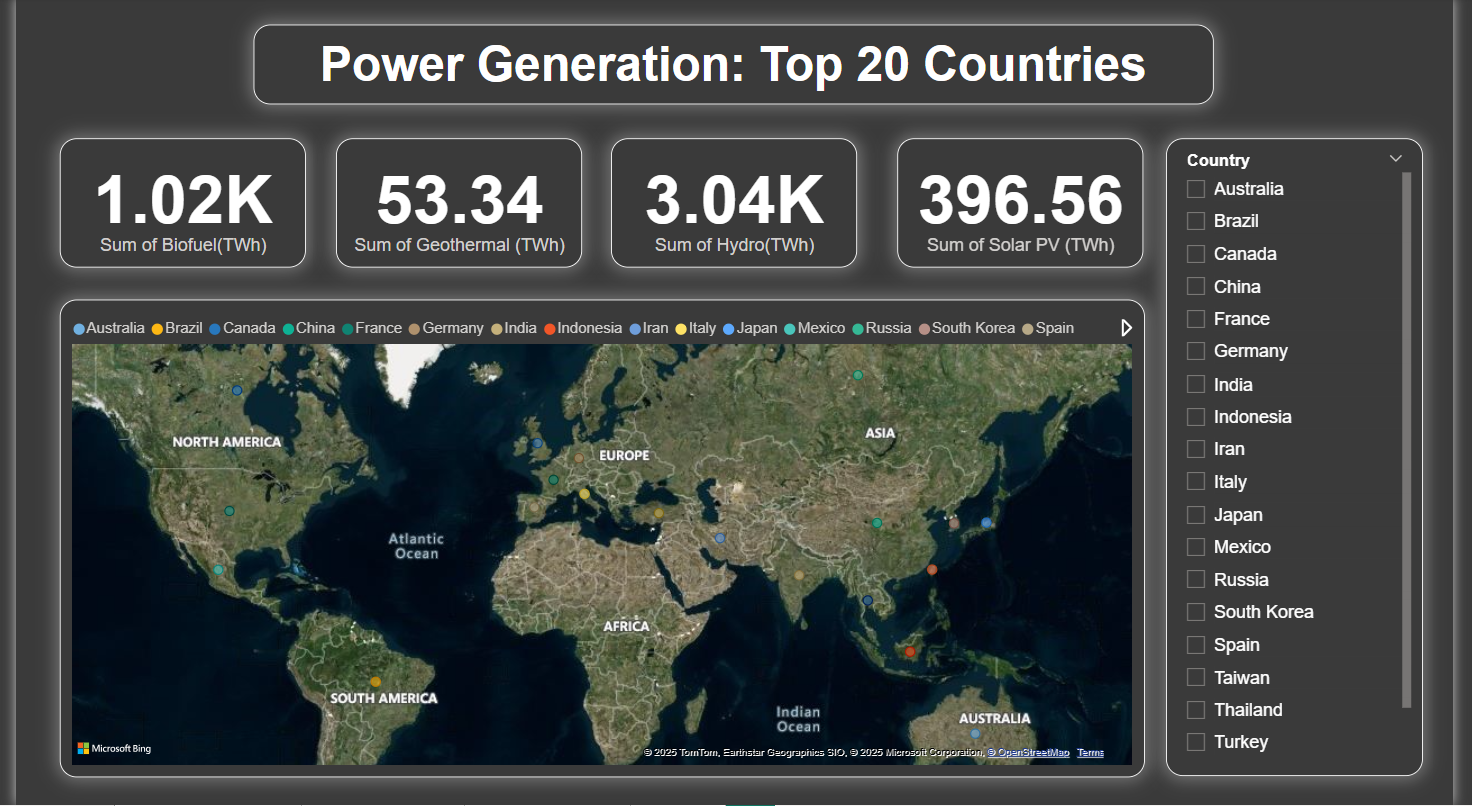

What the dashboard file says about the page in this screenshot:
{"tool":"powerbi","page":{"name":"Top 20 Countries","canvas":[1280,720],"ordinal":2},"visuals":[{"type":"textbox","box":[211.3,24.7,854.9,71.4],"z":0},{"type":"map","fields":{"Category":["top20CountriesPowerGeneration.Country"],"Series":["top20CountriesPowerGeneration.Country"]},"box":[38.4,269,966,425.4],"z":1000},{"type":"slicer","fields":{"Values":["top20CountriesPowerGeneration.Country"]},"box":[1023.7,126.2,229.2,568.1],"z":2000},{"type":"card","fields":{"Values":["Sum(top20CountriesPowerGeneration.Biofuel(TWh))"]},"box":[38.4,126.2,219.6,115.3],"z":3000},{"type":"card","fields":{"Values":["Sum(top20CountriesPowerGeneration.Geothermal (TWh))"]},"box":[285.4,126.2,219.6,115.3],"z":4000},{"type":"card","fields":{"Values":["Sum(top20CountriesPowerGeneration.Hydro(TWh))"]},"box":[529.7,126.2,219.6,115.3],"z":5000},{"type":"card","fields":{"Values":["Sum(top20CountriesPowerGeneration.Solar PV (TWh))"]},"box":[784.9,126.2,219.6,115.3],"z":6000}]}

Visuals, with their boxes in screenshot pixels (x1, y1, x2, y2), scaled from the page's 1280x720 canvas onto the 1472x806 screenshot:
textbox: (left=243, top=28, right=1226, bottom=108)
map - top20CountriesPowerGeneration.Country x top20CountriesPowerGeneration.Country: (left=44, top=301, right=1155, bottom=777)
slicer - top20CountriesPowerGeneration.Country: (left=1177, top=141, right=1441, bottom=777)
card - Sum(top20CountriesPowerGeneration.Biofuel(TWh)): (left=44, top=141, right=297, bottom=270)
card - Sum(top20CountriesPowerGeneration.Geothermal (TWh)): (left=328, top=141, right=581, bottom=270)
card - Sum(top20CountriesPowerGeneration.Hydro(TWh)): (left=609, top=141, right=862, bottom=270)
card - Sum(top20CountriesPowerGeneration.Solar PV (TWh)): (left=903, top=141, right=1155, bottom=270)
